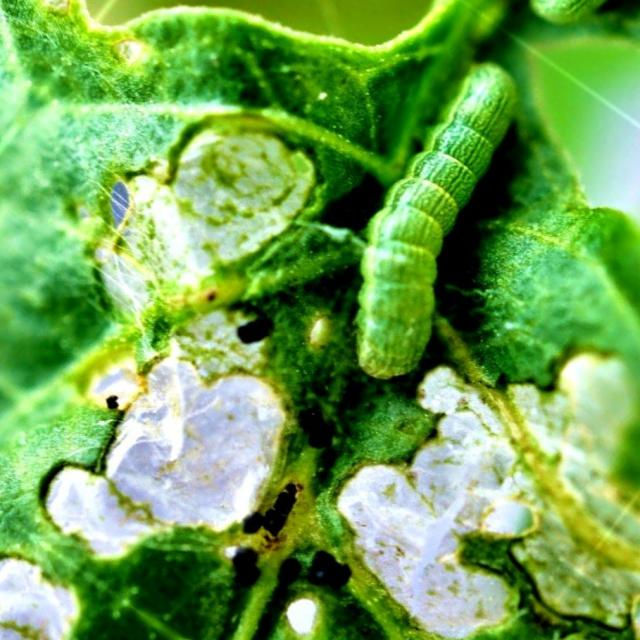Armyworm: (351, 53, 523, 391)
Armyworm_damage: (315, 378, 548, 640), (38, 325, 299, 555), (73, 125, 324, 328)
